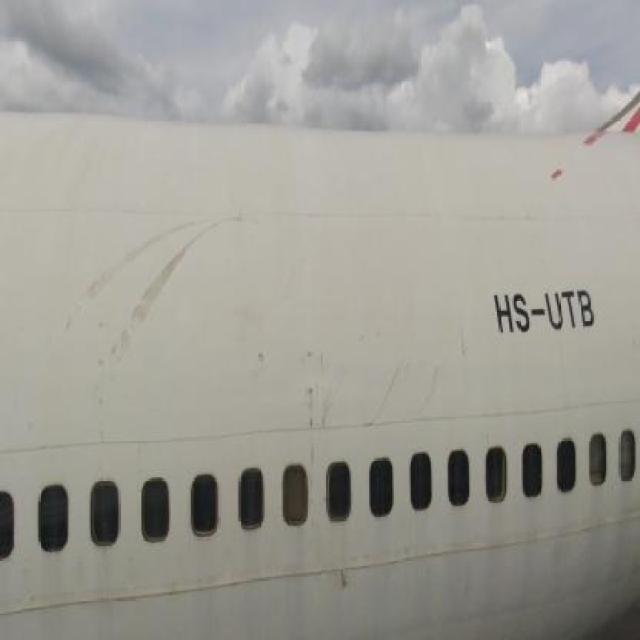Scartch: (304, 328, 331, 464), (93, 306, 116, 463), (335, 562, 356, 598)
